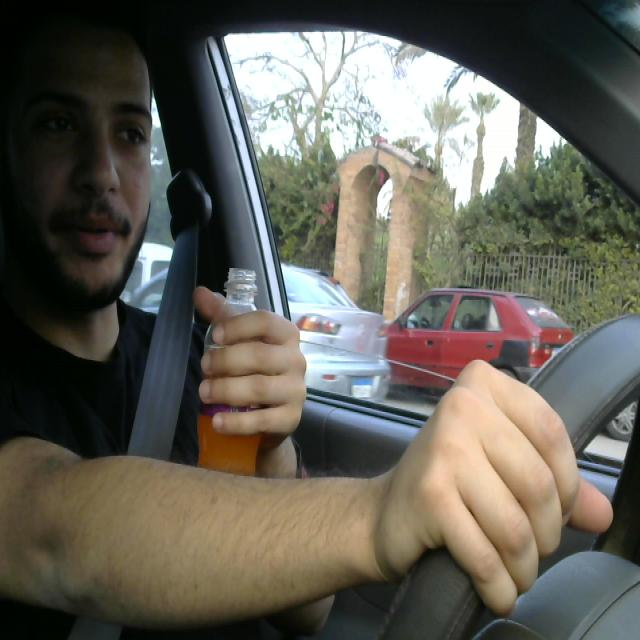drinking: (193, 267, 269, 528)
